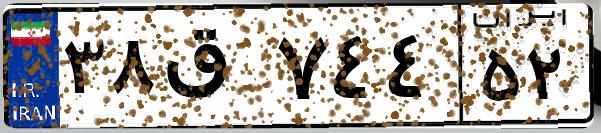2: (525, 38, 570, 115)
3: (57, 26, 110, 100)
4: (385, 28, 445, 110), (330, 28, 385, 110)
5: (475, 38, 525, 113)
7: (270, 28, 330, 110)
8: (110, 28, 158, 98)
ق: (158, 20, 270, 120)
